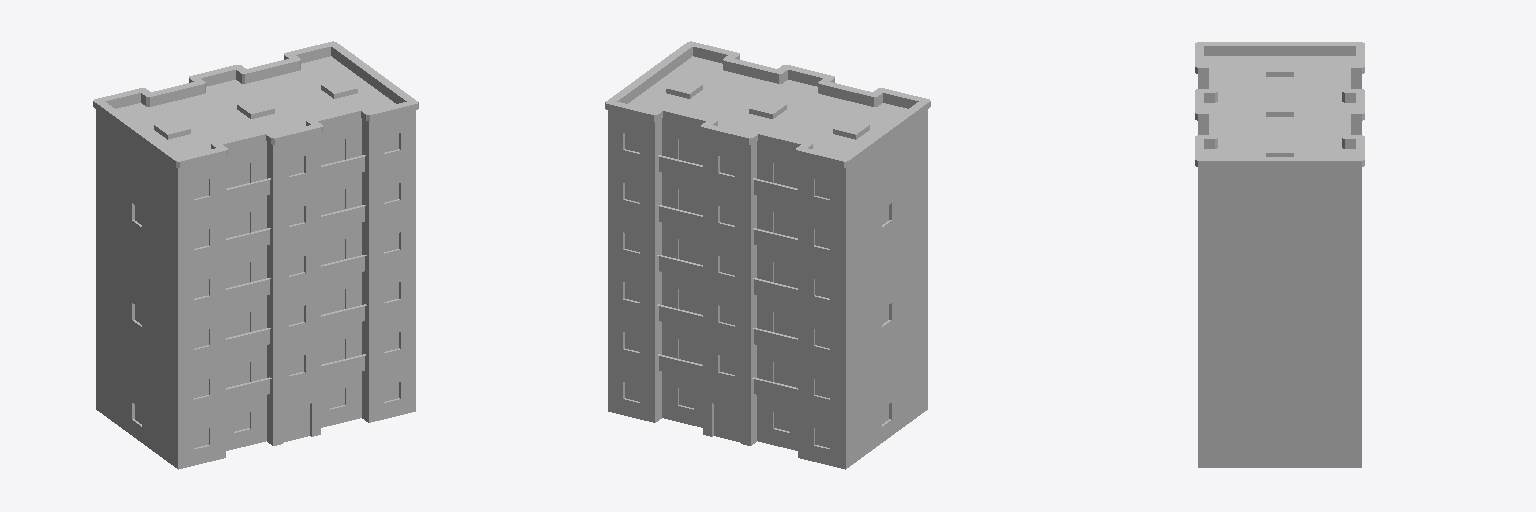
File: large_building_a_taller.obj
3 views of the same model, side by side, from view 1: azimuth 30°, elevation 25°; view 2: azimuth 150°, elevation 25°; view 3: azimuth 270°, elevation 25° (orthographic).
Parts seen in each view (by area): view 1: large_buildingA.001, large_buildingA.002, large_buildingA.003, large_buildingA; view 2: large_buildingA.001, large_buildingA.002, large_buildingA.003, large_buildingA; view 3: large_buildingA.001, large_buildingA.002, large_buildingA.003, large_buildingA.
Part boxes in pixels (x1,y1,x2,y2): large_buildingA.001: (93, 41, 418, 219); large_buildingA.002: (96, 161, 415, 319); large_buildingA.003: (96, 260, 415, 419); large_buildingA: (96, 360, 415, 469); large_buildingA.001: (605, 41, 930, 219); large_buildingA.002: (608, 161, 927, 319); large_buildingA.003: (608, 260, 927, 419); large_buildingA: (608, 360, 927, 469); large_buildingA.001: (1195, 42, 1364, 218); large_buildingA.002: (1198, 219, 1361, 318); large_buildingA.003: (1198, 319, 1361, 418); large_buildingA: (1198, 419, 1361, 467).
Size of the model in its own units: 4.08 by 4.96 by 2.48.